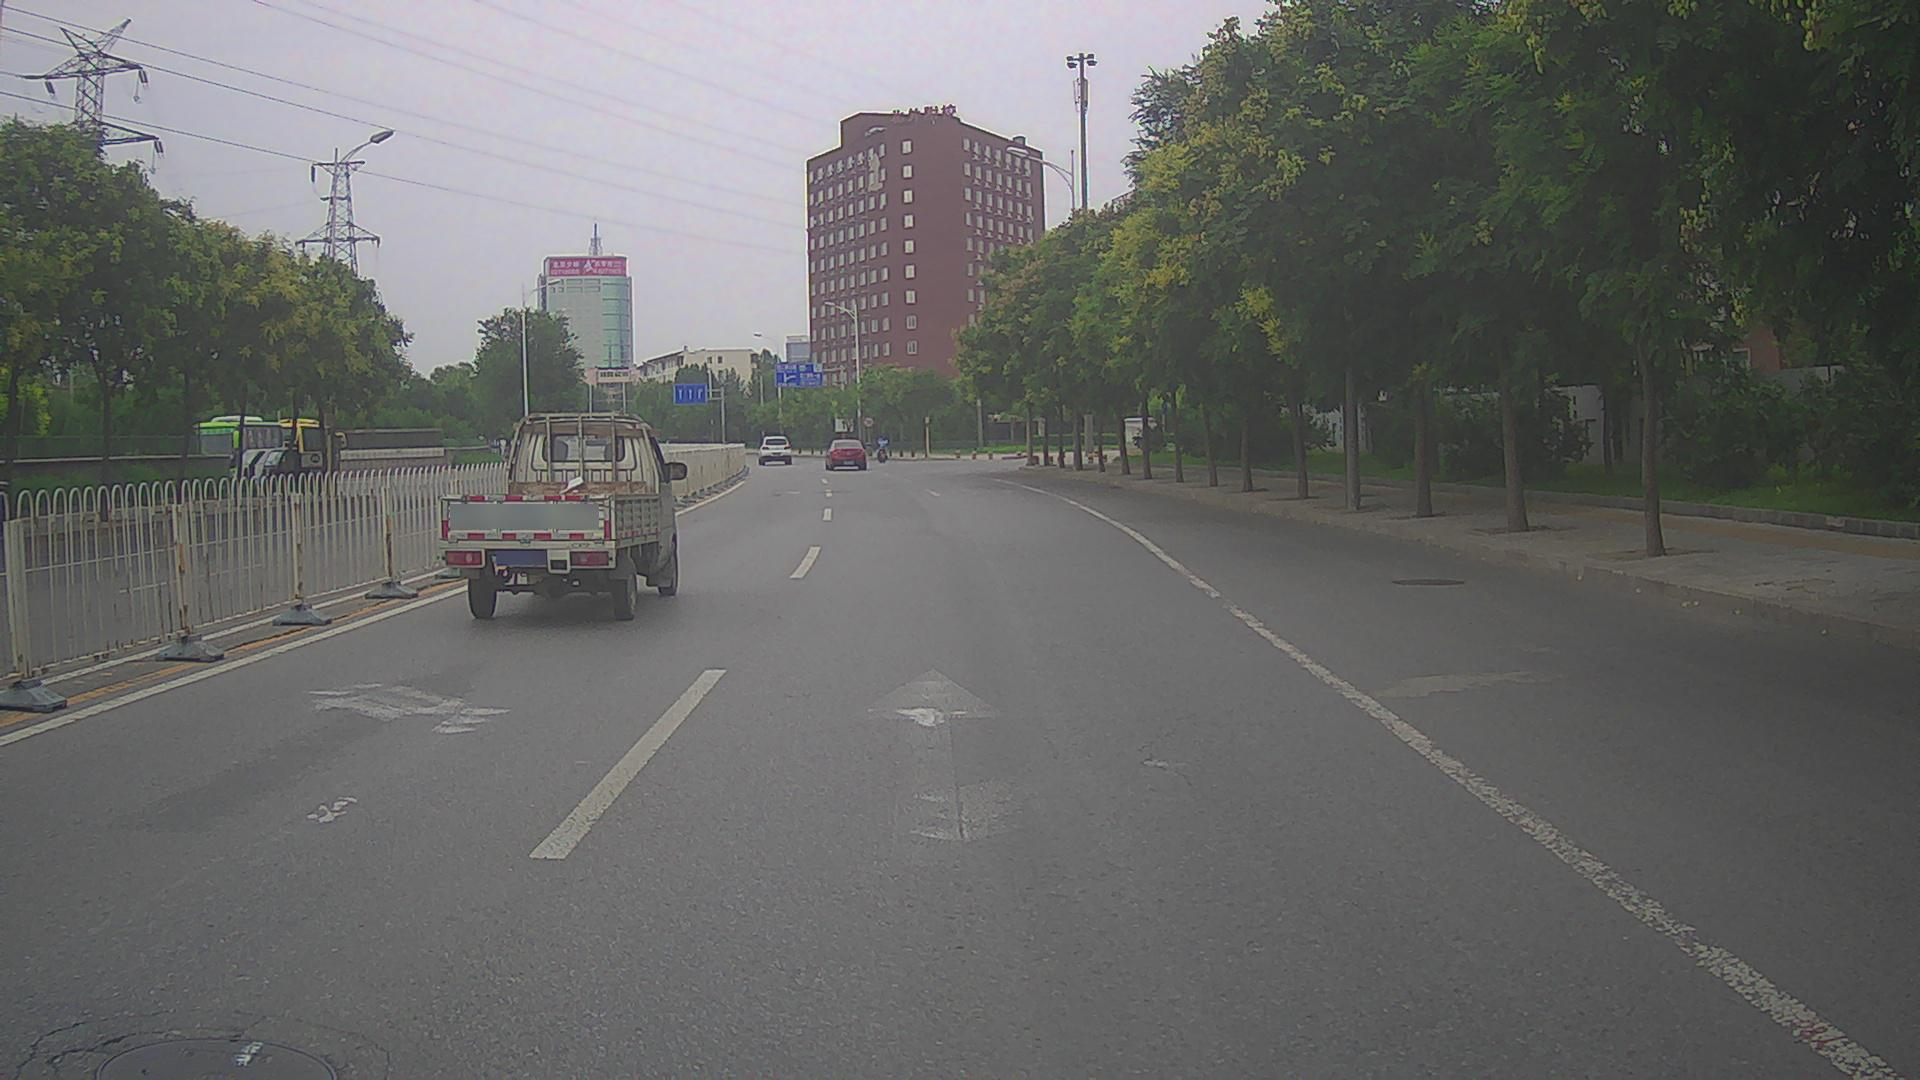bus: (189, 415, 285, 487), (261, 415, 344, 472)
car: (825, 439, 866, 469), (760, 436, 793, 465)
motorcyclist: (876, 435, 887, 464)
tricyclelist: (260, 450, 328, 495)
truck: (438, 413, 688, 622)
